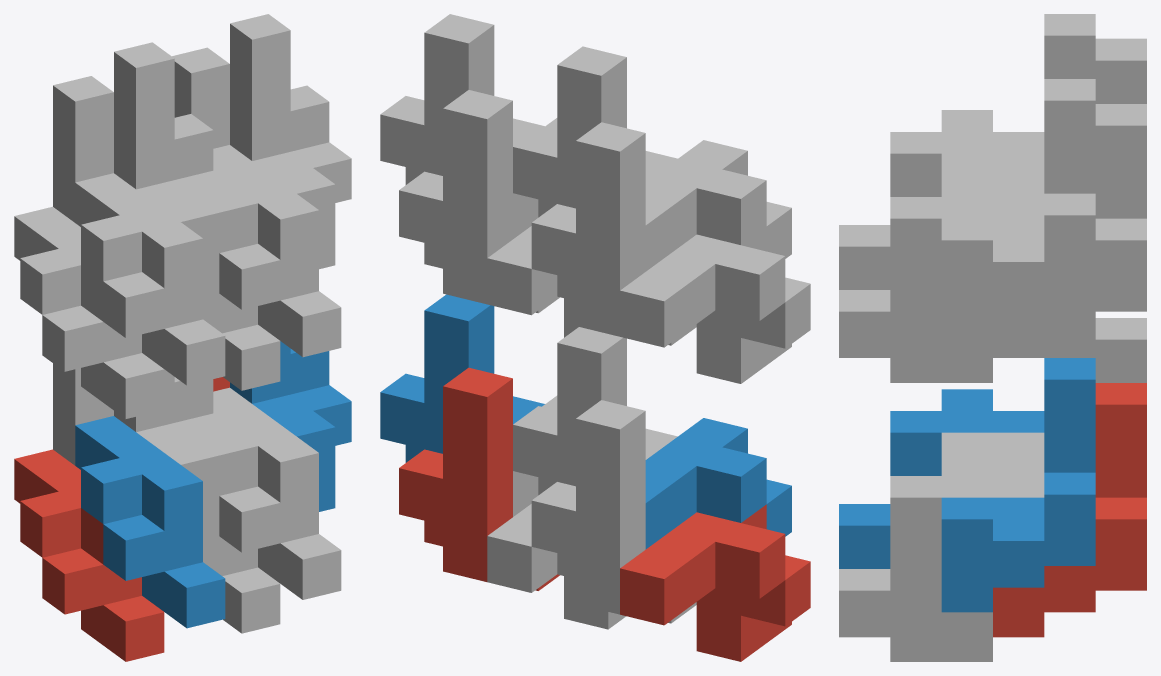
The model's file is tiling.obj.
3 views of the same model, side by side, from view 1: azimuth 30°, elevation 25°; view 2: azimuth 150°, elevation 25°; view 3: azimuth 270°, elevation 25° (orthographic). The views are drawn at different scales.
Visible parts, largest first — view 1: copy_1_domain_2, copy_1_domain_4, copy_1_domain_6, copy_1_domain_8, copy_2_domain_8, copy_1_domain_1, copy_1_domain_3, copy_2_domain_4, copy_2_domain_6, copy_2_domain_2, copy_2_domain_3, copy_1_domain_7 (+3 smaller); view 2: copy_1_domain_1, copy_1_domain_3, copy_2_domain_1, copy_2_domain_3, copy_2_domain_5, copy_2_domain_7, copy_1_domain_4, copy_1_domain_2, copy_2_domain_4, copy_2_domain_8, copy_2_domain_2, copy_2_domain_6 (+4 smaller); view 3: copy_2_domain_6, copy_2_domain_8, copy_2_domain_5, copy_2_domain_7, copy_1_domain_6, copy_1_domain_8, copy_1_domain_2, copy_1_domain_4, copy_2_domain_4, copy_2_domain_2, copy_1_domain_5, copy_1_domain_7 (+2 smaller).
Part boxes in pixels (bbox=[...]): copy_1_domain_2: bbox=[75, 416, 225, 628]; copy_1_domain_4: bbox=[75, 173, 225, 385]; copy_1_domain_6: bbox=[197, 387, 341, 599]; copy_1_domain_8: bbox=[197, 145, 341, 357]; copy_2_domain_8: bbox=[230, 14, 351, 269]; copy_1_domain_1: bbox=[14, 449, 164, 661]; copy_1_domain_3: bbox=[14, 206, 164, 418]; copy_2_domain_4: bbox=[114, 42, 235, 297]; copy_2_domain_6: bbox=[230, 341, 351, 511]; copy_2_domain_2: bbox=[114, 369, 235, 540]; copy_2_domain_3: bbox=[53, 76, 113, 222]; copy_1_domain_7: bbox=[203, 293, 280, 390]; copy_1_domain_1: bbox=[620, 504, 810, 661]; copy_1_domain_3: bbox=[620, 227, 810, 383]; copy_2_domain_1: bbox=[531, 400, 696, 623]; copy_2_domain_3: bbox=[531, 122, 696, 345]; copy_2_domain_5: bbox=[399, 367, 559, 590]; copy_2_domain_7: bbox=[399, 90, 559, 313]; copy_1_domain_4: bbox=[645, 140, 791, 271]; copy_1_domain_2: bbox=[645, 418, 791, 549]; copy_2_domain_4: bbox=[513, 46, 677, 217]; copy_2_domain_8: bbox=[380, 14, 544, 184]; copy_2_domain_2: bbox=[513, 327, 677, 495]; copy_2_domain_6: bbox=[380, 294, 544, 462]; copy_2_domain_6: bbox=[941, 358, 1095, 612]; copy_2_domain_8: bbox=[941, 79, 1095, 333]; copy_2_domain_5: bbox=[993, 383, 1146, 637]; copy_2_domain_7: bbox=[993, 104, 1146, 357]; copy_1_domain_6: bbox=[839, 454, 1044, 637]; copy_1_domain_8: bbox=[839, 175, 1044, 357]; copy_1_domain_2: bbox=[839, 389, 1044, 568]; copy_1_domain_4: bbox=[839, 110, 1044, 289]; copy_2_domain_4: bbox=[941, 14, 1095, 196]; copy_2_domain_2: bbox=[941, 333, 1095, 475]; copy_1_domain_5: bbox=[890, 612, 992, 661]; copy_1_domain_7: bbox=[890, 333, 992, 382].
Size of the model in its own units: 8 by 13 by 6.
